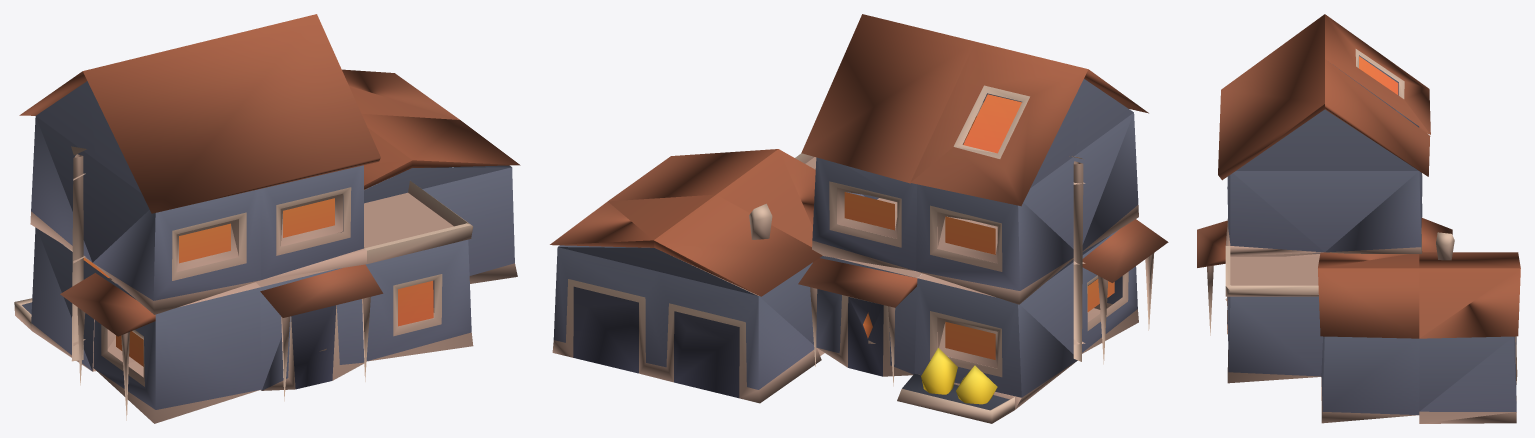
The model's file is casa_n.fbx.
3 views of the same model, side by side, from view 1: azimuth 30°, elevation 25°; view 2: azimuth 150°, elevation 25°; view 3: azimuth 270°, elevation 25° (orthographic). The views are drawn at different scales.
Visible parts, largest first — view 1: casa_n; view 2: casa_n; view 3: casa_n.
Part boxes in pixels (x1=…): casa_n: x1=14, y1=14, x2=520, y2=423; casa_n: x1=550, y1=14, x2=1168, y2=423; casa_n: x1=1197, y1=14, x2=1520, y2=423.
Bounding box in the file's own units: 1.77 × 1.14 × 1.37.
